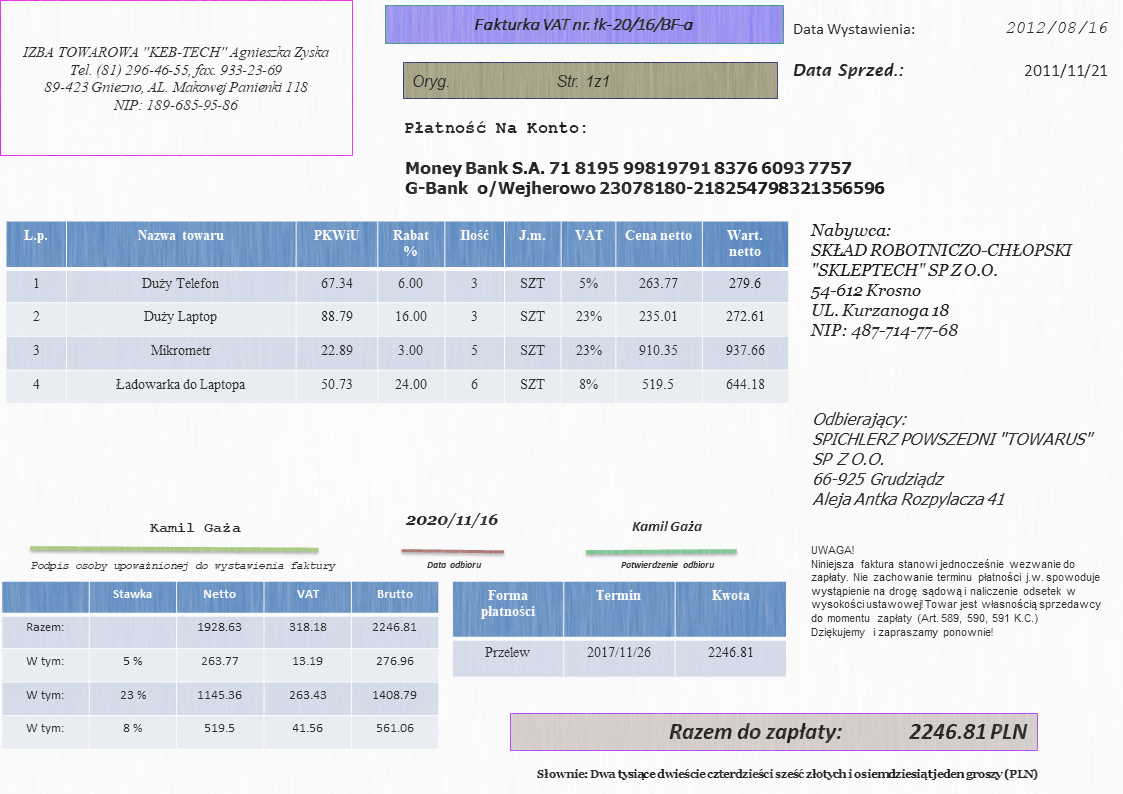Table: (4, 218, 789, 405), (1, 580, 439, 749), (451, 579, 787, 678)
TextBox: (807, 219, 1075, 343), (809, 408, 1100, 511), (807, 541, 1106, 641), (20, 39, 331, 115), (402, 156, 888, 200), (665, 718, 1031, 745), (533, 764, 1040, 783), (28, 557, 338, 575), (469, 14, 697, 36), (410, 70, 613, 93), (400, 118, 588, 139), (789, 60, 912, 82), (790, 19, 918, 37), (1003, 17, 1111, 38), (402, 509, 500, 530), (147, 519, 246, 537), (1020, 61, 1111, 80), (618, 556, 715, 572), (627, 517, 705, 535), (423, 558, 485, 572)
